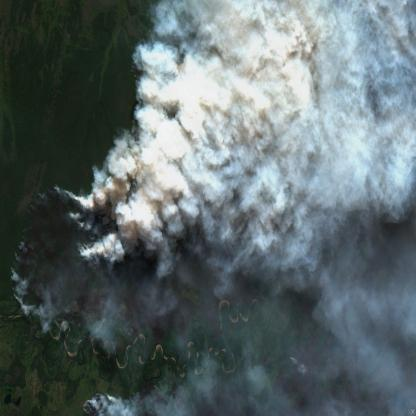fire: (9, 41, 178, 334), (80, 376, 154, 416)
